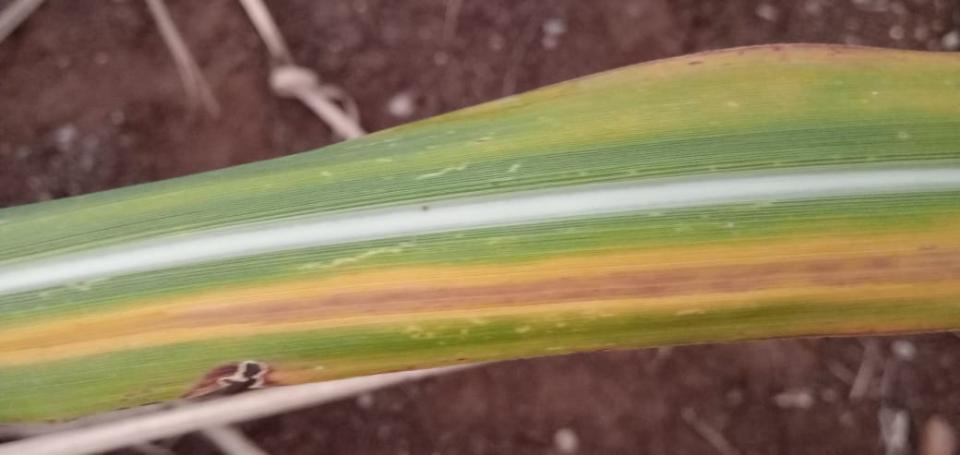Rust: (181, 364, 239, 399), (686, 44, 784, 58), (259, 365, 290, 387), (687, 61, 702, 66), (422, 206, 429, 211)
Yellow: (0, 211, 959, 384), (362, 44, 959, 173)
